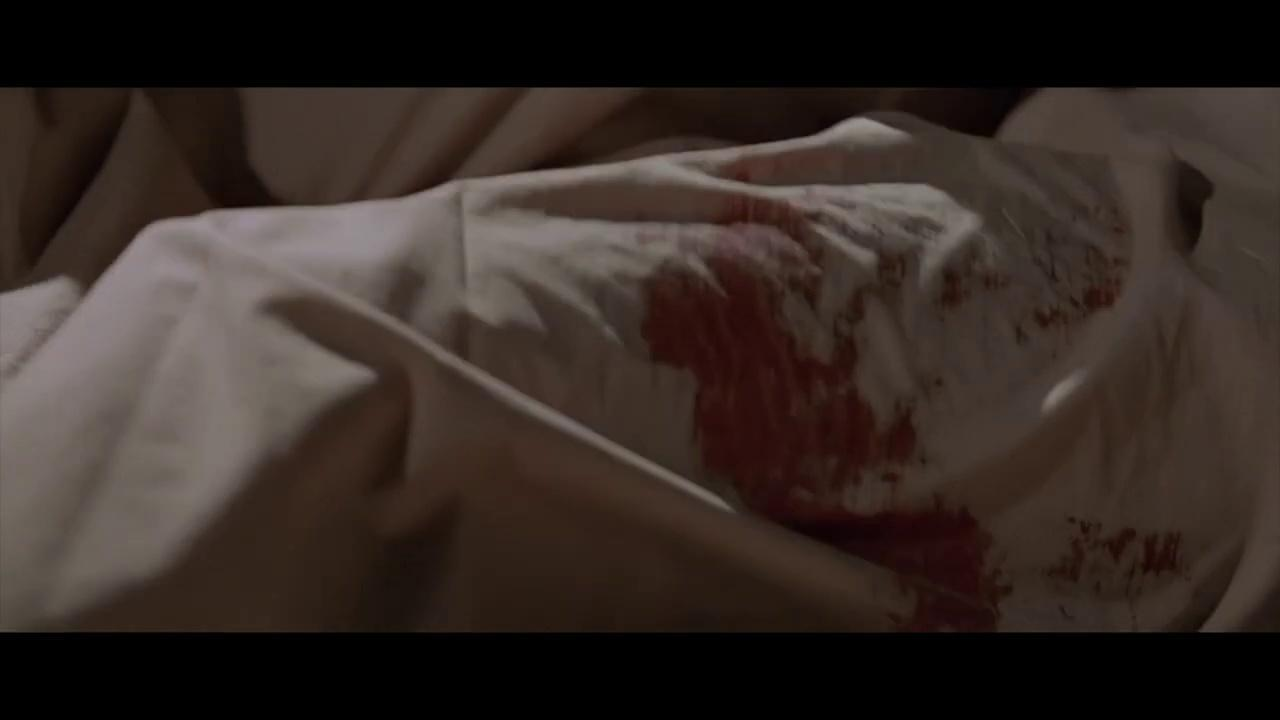Fire: (639, 130, 1132, 606), (1043, 517, 1187, 612), (901, 575, 999, 632)
